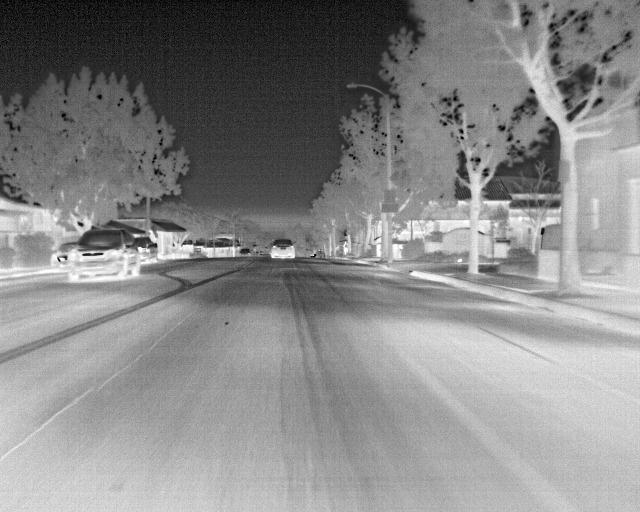bicycle: (66, 229, 139, 280), (50, 242, 76, 271), (131, 237, 159, 260), (269, 237, 294, 260), (236, 246, 253, 258)
